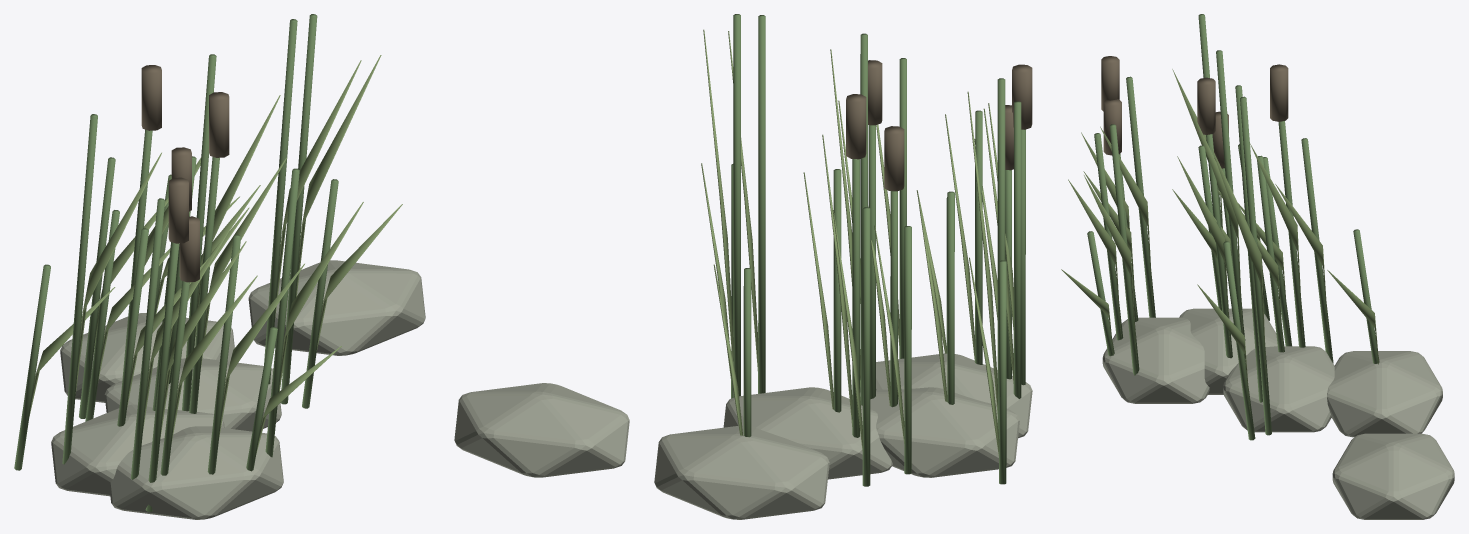
The model's file is shore.glb.
3 renders of one model, left to right at view 1: azimuth 30°, elevation 25°; view 2: azimuth 150°, elevation 25°; view 3: azimuth 270°, elevation 25°, orthographic. The views are drawn at different scales.
Parts seen in each view (by area): view 1: shore_Shore_limestone, shore_Willow_foliage, shore_Sunlit_foliage, shore_Grey_brown_bark; view 2: shore_Shore_limestone, shore_Willow_foliage, shore_Sunlit_foliage, shore_Grey_brown_bark; view 3: shore_Shore_limestone, shore_Willow_foliage, shore_Sunlit_foliage, shore_Grey_brown_bark.
Part boxes in pixels (x1,y1,x2,y2): shore_Shore_limestone: (51, 260, 425, 519); shore_Willow_foliage: (14, 14, 338, 511); shore_Sunlit_foliage: (29, 55, 402, 453); shore_Grey_brown_bark: (141, 65, 229, 282); shore_Shore_limestone: (454, 353, 1032, 519); shore_Willow_foliage: (731, 14, 1025, 486); shore_Sunlit_foliage: (701, 29, 1013, 455); shore_Grey_brown_bark: (846, 60, 1032, 191); shore_Shore_limestone: (1102, 308, 1454, 519); shore_Willow_foliage: (1087, 14, 1379, 440); shore_Sunlit_foliage: (1061, 69, 1378, 416); shore_Grey_brown_bark: (1101, 56, 1288, 168).
Bounding box in the file's own units: 1.31 × 1.1 × 1.08.
